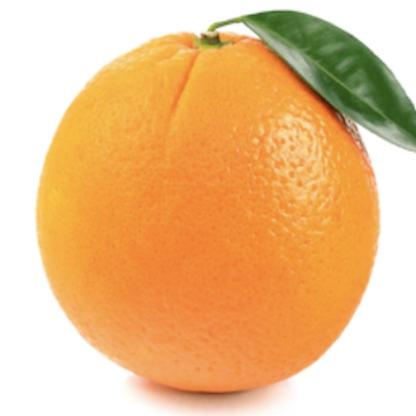fresh: (39, 33, 379, 396)
